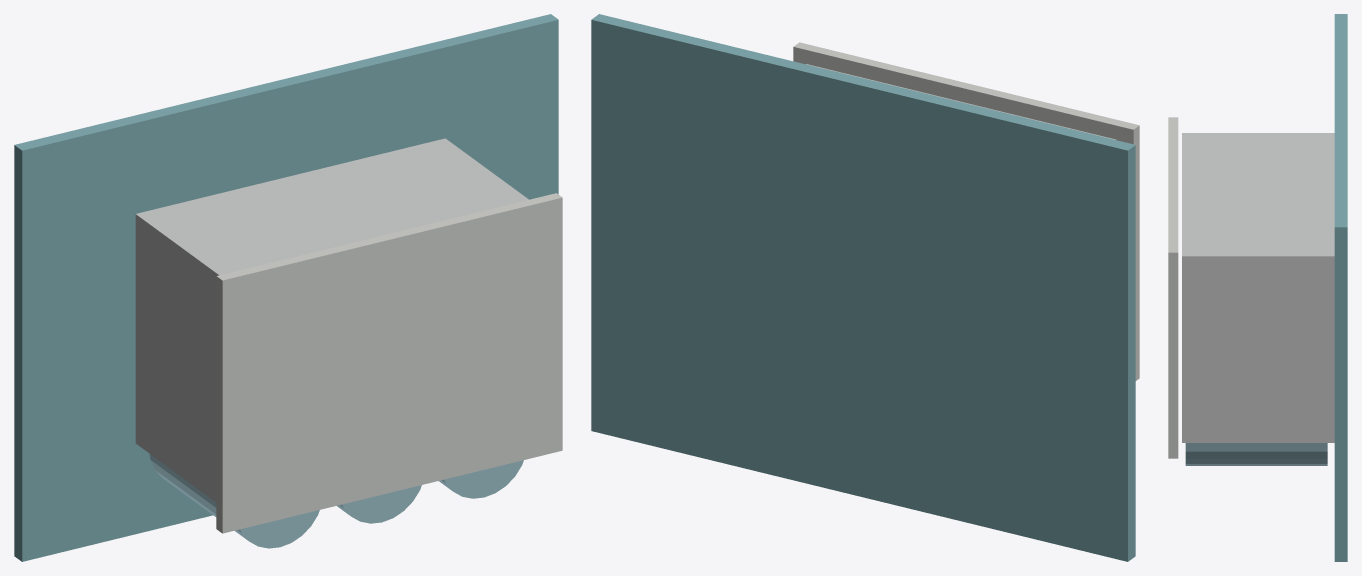
The picture shows the model from 3 angles, left to right: view 1: azimuth 30°, elevation 25°; view 2: azimuth 150°, elevation 25°; view 3: azimuth 270°, elevation 25°; orthographic projection. The views are drawn at different scales.
Parts seen in each view (by area): view 1: section_00, section_05, section_01, section_02, section_04, section_03; view 2: section_00, section_05; view 3: section_01, section_00, section_05, section_04.
Boxes of the visible parts, x1=… form: section_00: x1=14, y1=14, x2=558, y2=561; section_05: x1=216, y1=193, x2=562, y2=533; section_01: x1=135, y1=138, x2=528, y2=501; section_02: x1=149, y1=454, x2=319, y2=548; section_04: x1=439, y1=460, x2=523, y2=498; section_03: x1=337, y1=485, x2=421, y2=523; section_00: x1=591, y1=14, x2=1135, y2=561; section_05: x1=793, y1=42, x2=1139, y2=380; section_01: x1=1182, y1=133, x2=1334, y2=442; section_00: x1=1334, y1=14, x2=1347, y2=561; section_05: x1=1168, y1=117, x2=1178, y2=458; section_04: x1=1185, y1=443, x2=1327, y2=465.
Bounding box in the file's own units: 7.1 × 5.2 × 2.52.
